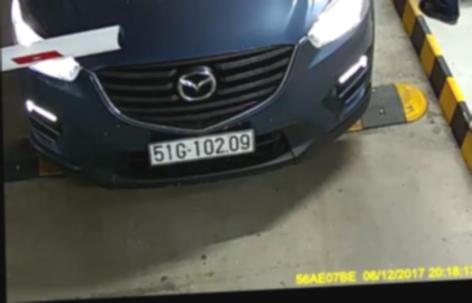License_Plate: (144, 128, 258, 165)
